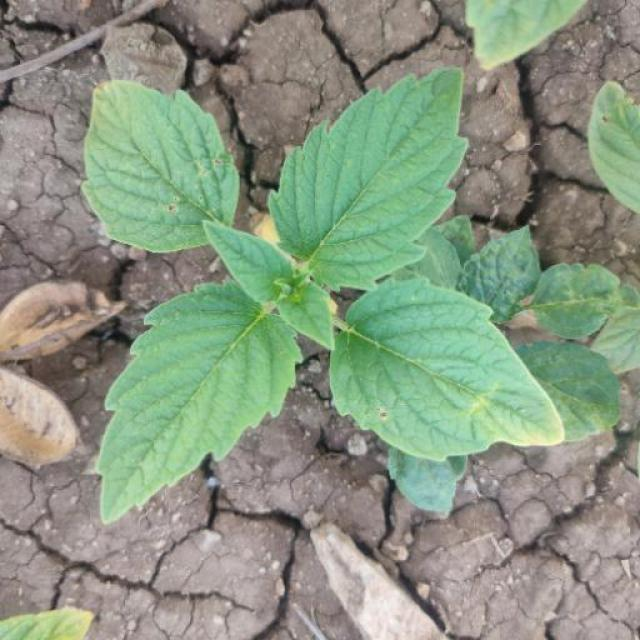crop: (72, 56, 578, 530)
